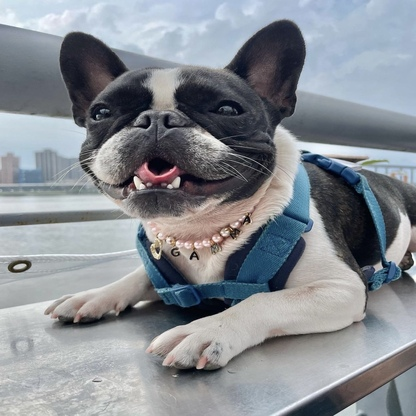bulldog: (43, 15, 415, 376)
